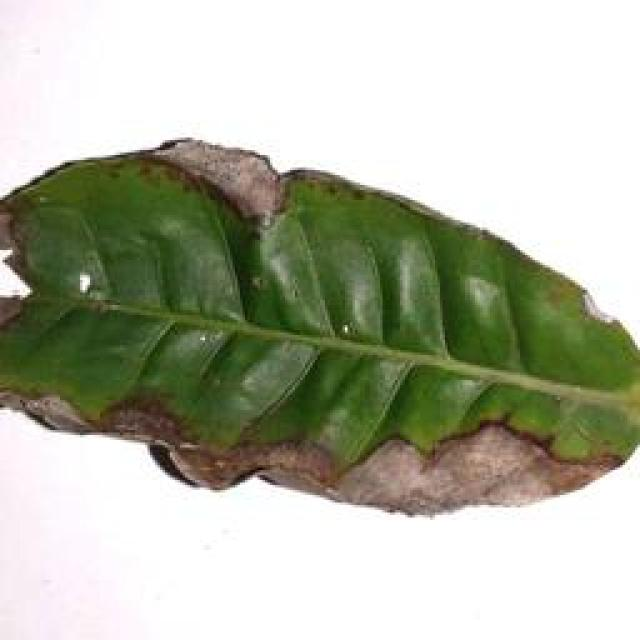Brown Blight: (0, 131, 640, 525)
